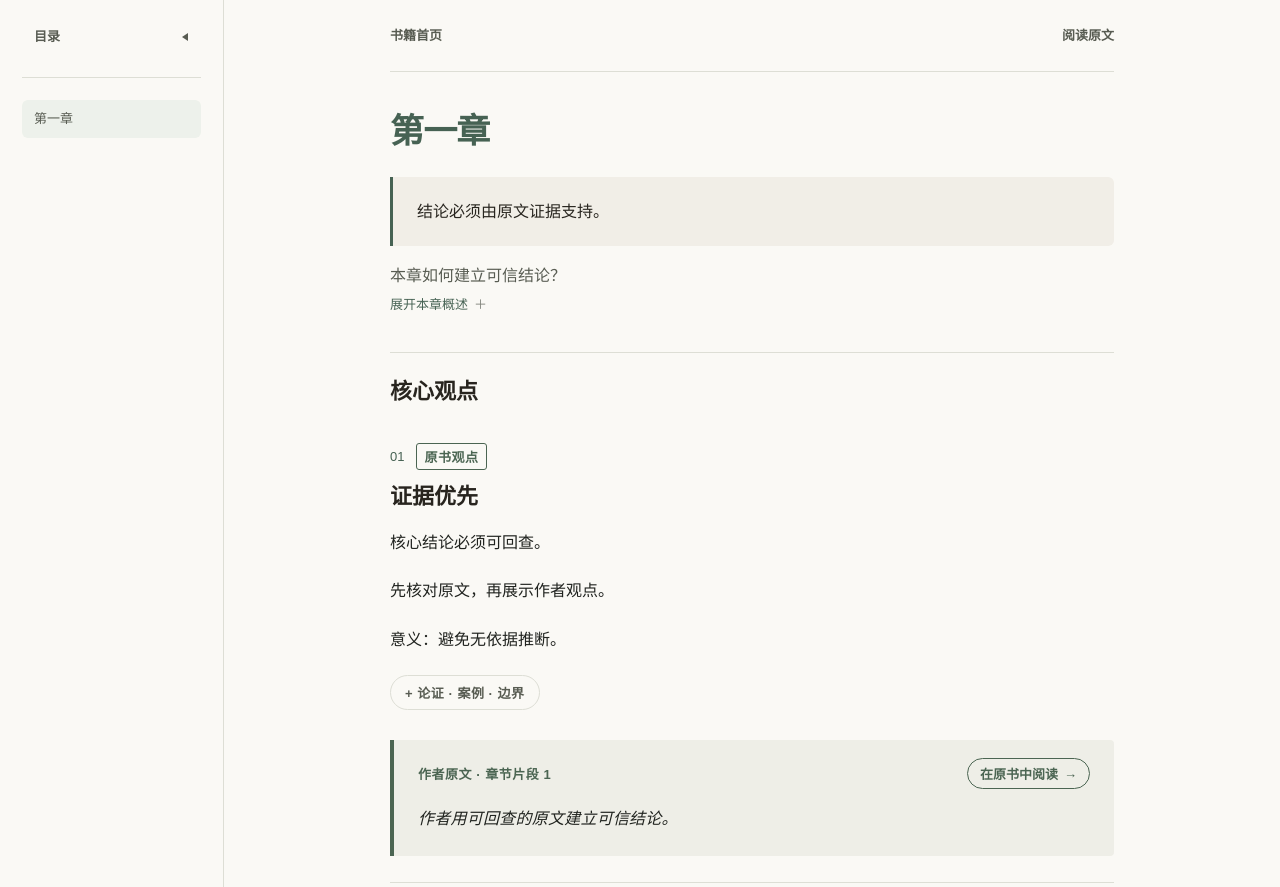
Test: ChapterWorkspace › collapses only the chapter directory
Click the button named "收起章节目录" at (185, 37), box [169,21,201,53]
(page scrolled)
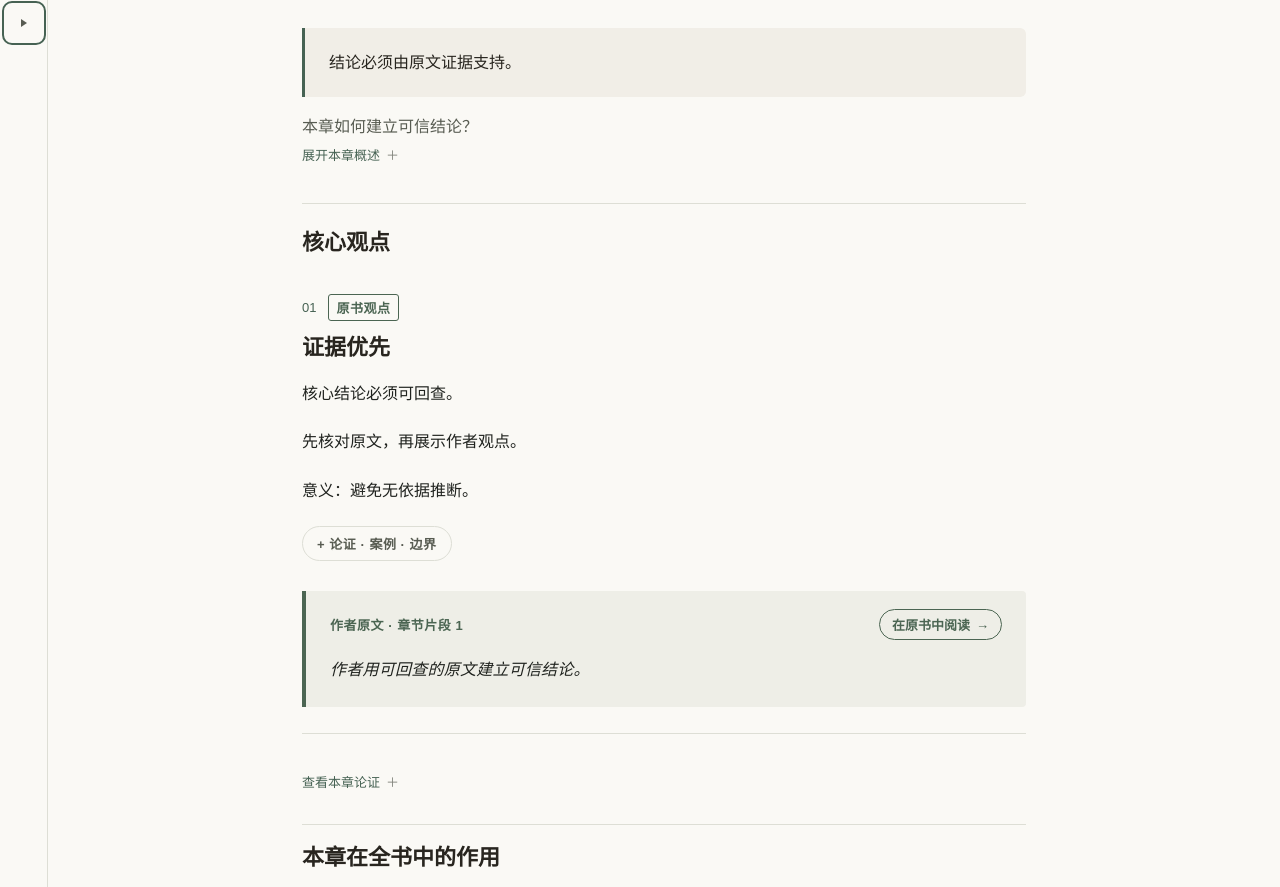
Result: the button named "展开章节目录" is shown at [8,7,40,39]
